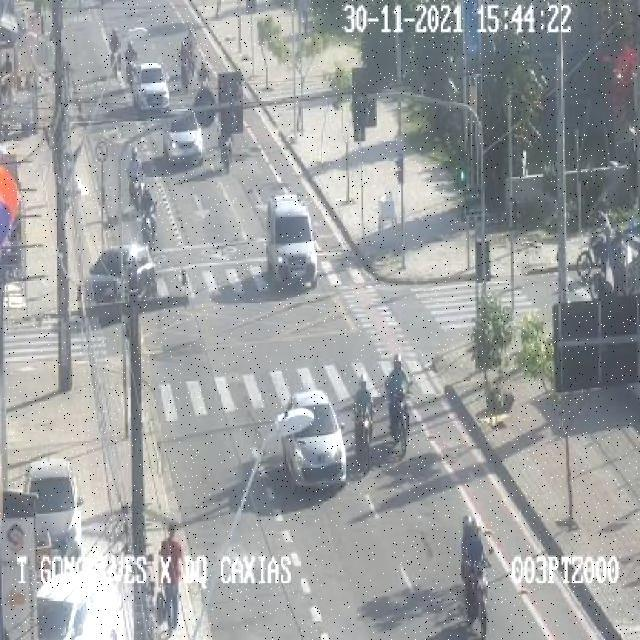Car: (278, 389, 347, 488), (40, 566, 133, 638), (23, 460, 83, 558), (265, 194, 318, 288), (164, 110, 204, 168), (130, 61, 170, 114)
